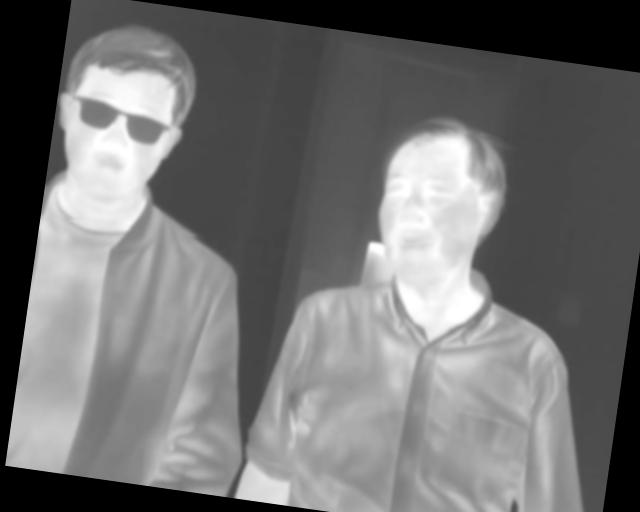face: (45, 15, 204, 211), (365, 107, 516, 297)
